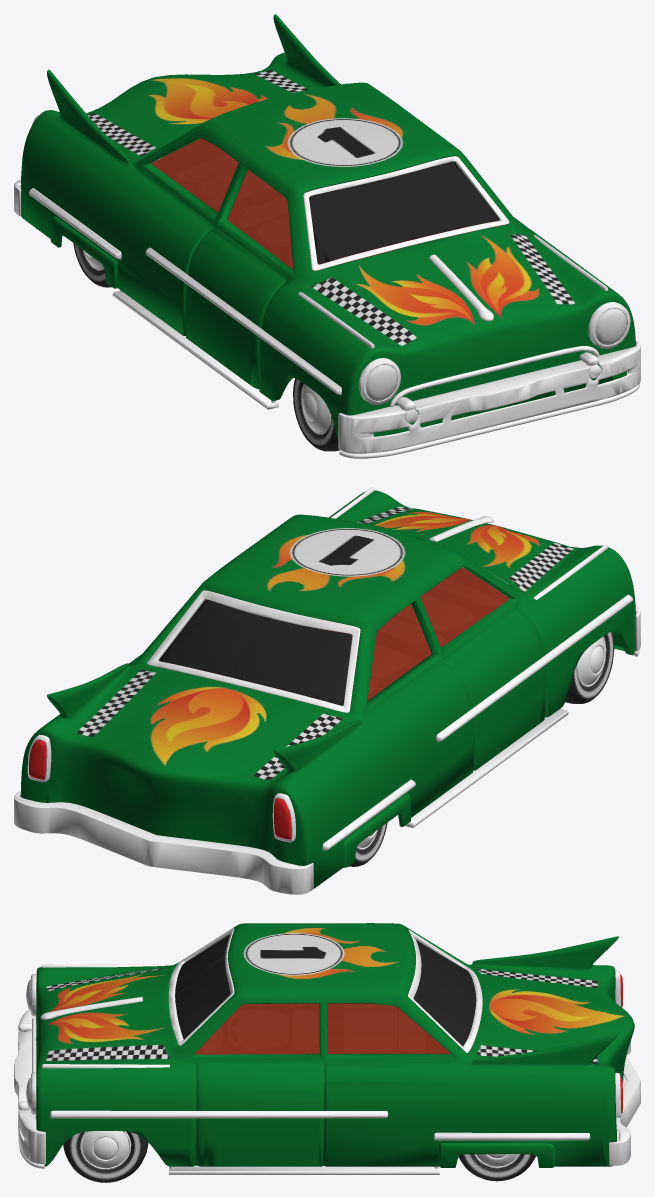
Rendered from stallion.glb.
The picture shows the model from 3 angles, top to bottom: view 1: azimuth 30°, elevation 25°; view 2: azimuth 150°, elevation 25°; view 3: azimuth 270°, elevation 25°; orthographic projection. The views are drawn at different scales.
Parts seen in each view (by area): view 1: ToyCar; view 2: ToyCar; view 3: ToyCar.
Boxes of the visible parts, x1=… form: ToyCar: x1=14, y1=14, x2=640, y2=458; ToyCar: x1=14, y1=487, x2=640, y2=894; ToyCar: x1=14, y1=923, x2=640, y2=1182.
Size of the model in its own units: 0.0187 by 0.0116 by 0.0384.
Materials: 1 (1 with a texture image).
